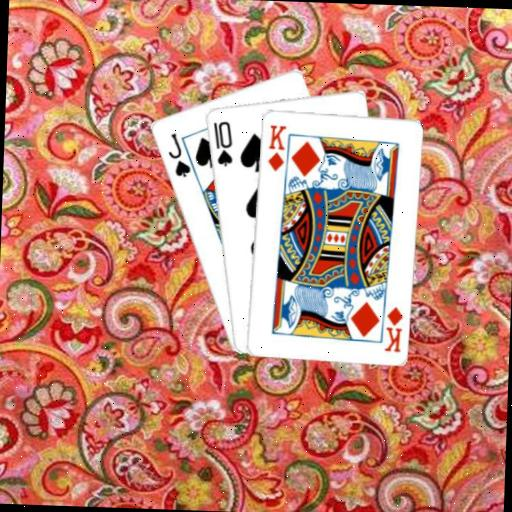10S: (208, 117, 235, 168)
JS: (163, 129, 193, 178)
KD: (264, 121, 288, 173), (381, 303, 405, 354)
